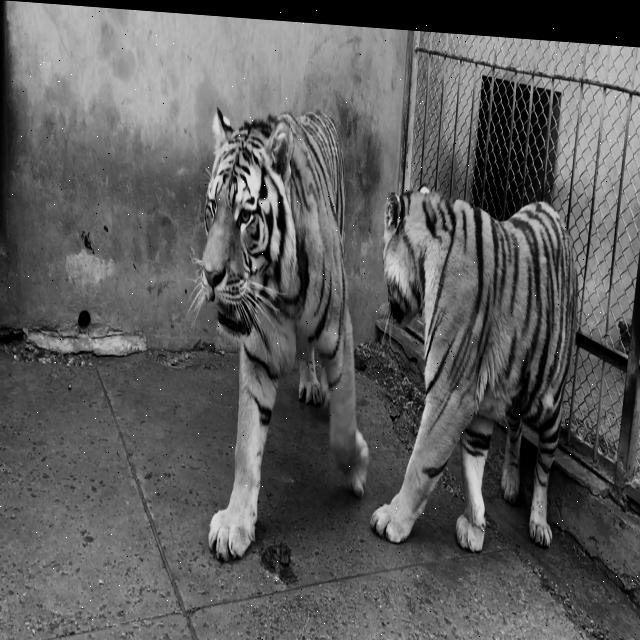Tiger: (186, 98, 370, 573), (369, 181, 579, 561)
